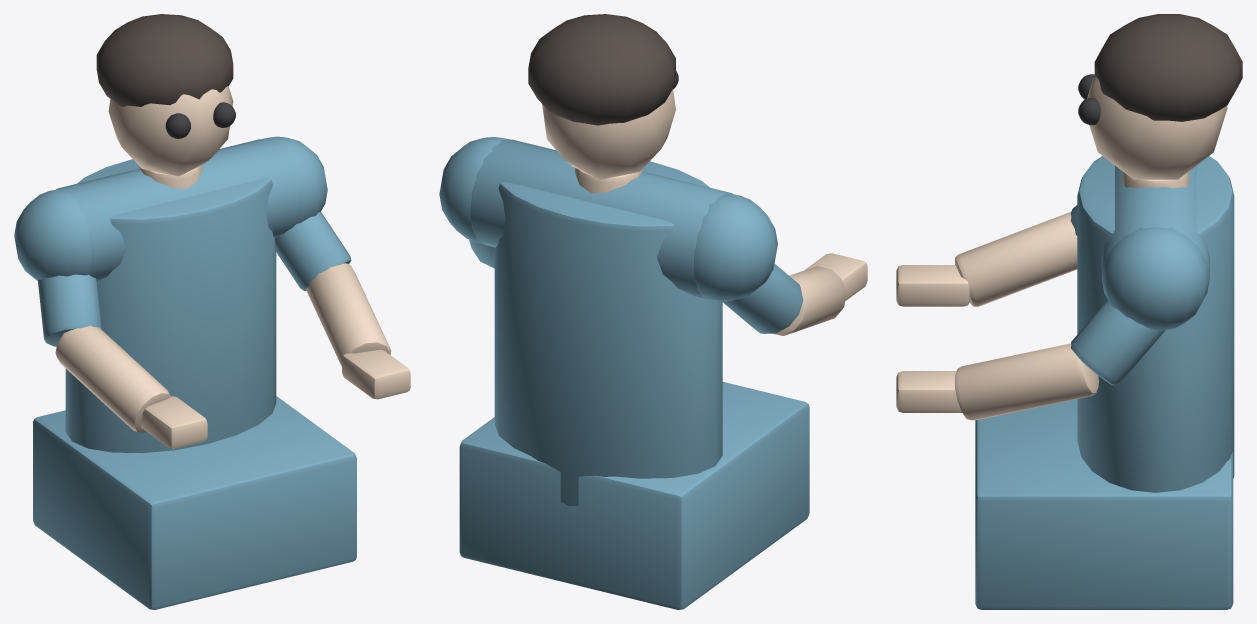
The model's file is avatar.glb.
The picture shows the model from 3 angles, left to right: view 1: azimuth 30°, elevation 25°; view 2: azimuth 150°, elevation 25°; view 3: azimuth 270°, elevation 25°; orthographic projection. The views are drawn at different scales.
Parts seen in each view (by area): view 1: Avatar_Body, Avatar_Head; view 2: Avatar_Body, Avatar_Head; view 3: Avatar_Body, Avatar_Head.
Part boxes in pixels (box(x1,y1,x2,y2)): Avatar_Body: box(14, 136, 410, 609); Avatar_Head: box(96, 14, 235, 176); Avatar_Body: box(439, 137, 867, 609); Avatar_Head: box(528, 14, 678, 179); Avatar_Body: box(896, 156, 1234, 609); Avatar_Head: box(1078, 14, 1242, 179).
Bounding box in the file's own units: 0.5805 × 0.9156 × 0.5372.
